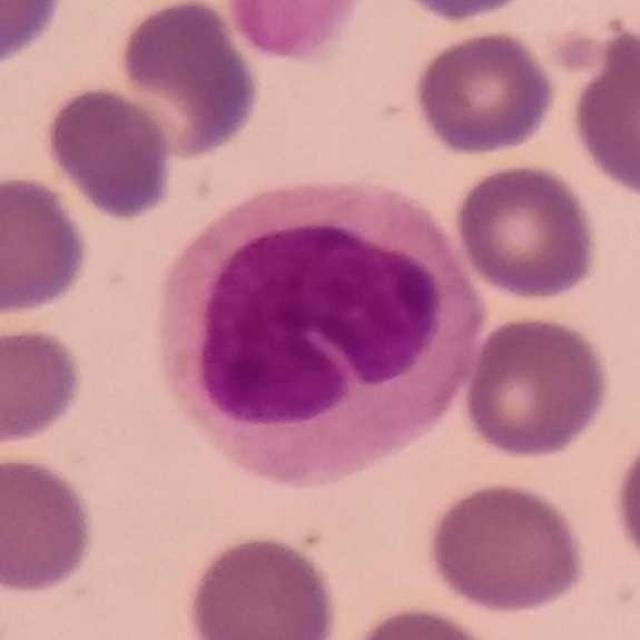Monocyte: (144, 172, 488, 495)
RBC: (112, 0, 264, 163), (458, 310, 614, 462), (422, 478, 590, 616), (452, 159, 601, 304), (409, 26, 560, 158), (41, 82, 178, 224), (180, 530, 343, 640), (0, 448, 101, 598), (0, 170, 93, 320), (565, 20, 640, 203), (0, 320, 89, 452), (230, 0, 380, 67), (336, 601, 512, 640), (609, 420, 640, 581), (0, 0, 70, 71), (379, 0, 552, 26)
